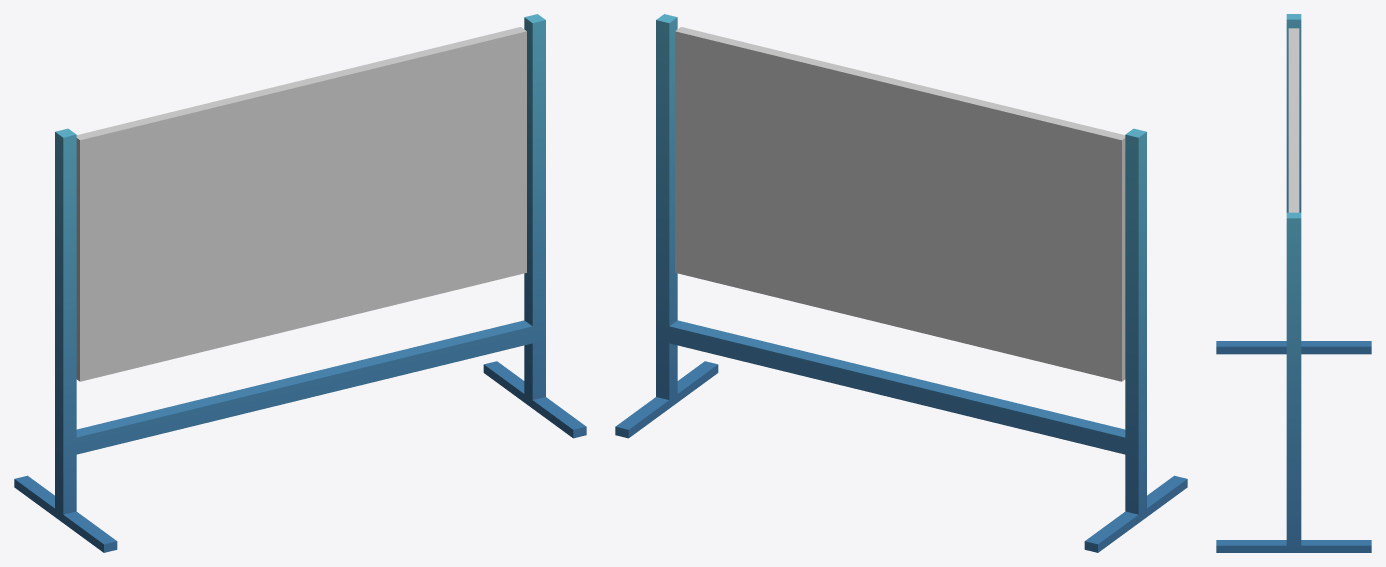
File: Cam_bolme.fbx
The picture shows the model from 3 angles, left to right: view 1: azimuth 30°, elevation 25°; view 2: azimuth 150°, elevation 25°; view 3: azimuth 270°, elevation 25°; orthographic projection. The views are drawn at different scales.
Parts seen in each view (by area): view 1: Cam_Bolme; view 2: Cam_Bolme; view 3: Cam_Bolme.
Part boxes in pixels (x1,y1,x2,y2): Cam_Bolme: [14, 14, 586, 552]; Cam_Bolme: [615, 14, 1187, 552]; Cam_Bolme: [1216, 14, 1371, 552].
Size of the model in its own units: 479 by 366 by 154.
